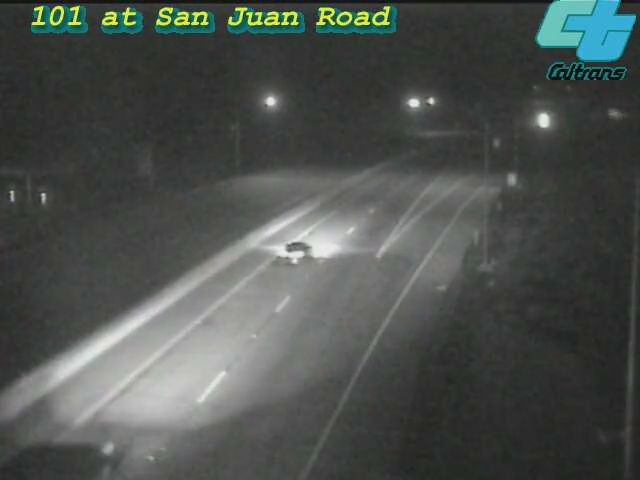vehicle: (29, 407, 139, 480), (252, 211, 332, 291), (589, 90, 639, 140), (519, 97, 569, 147)
